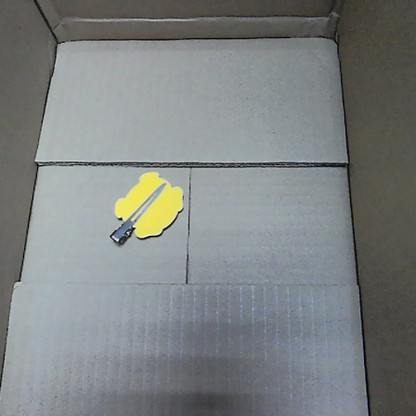dogclip: (109, 169, 186, 243)
